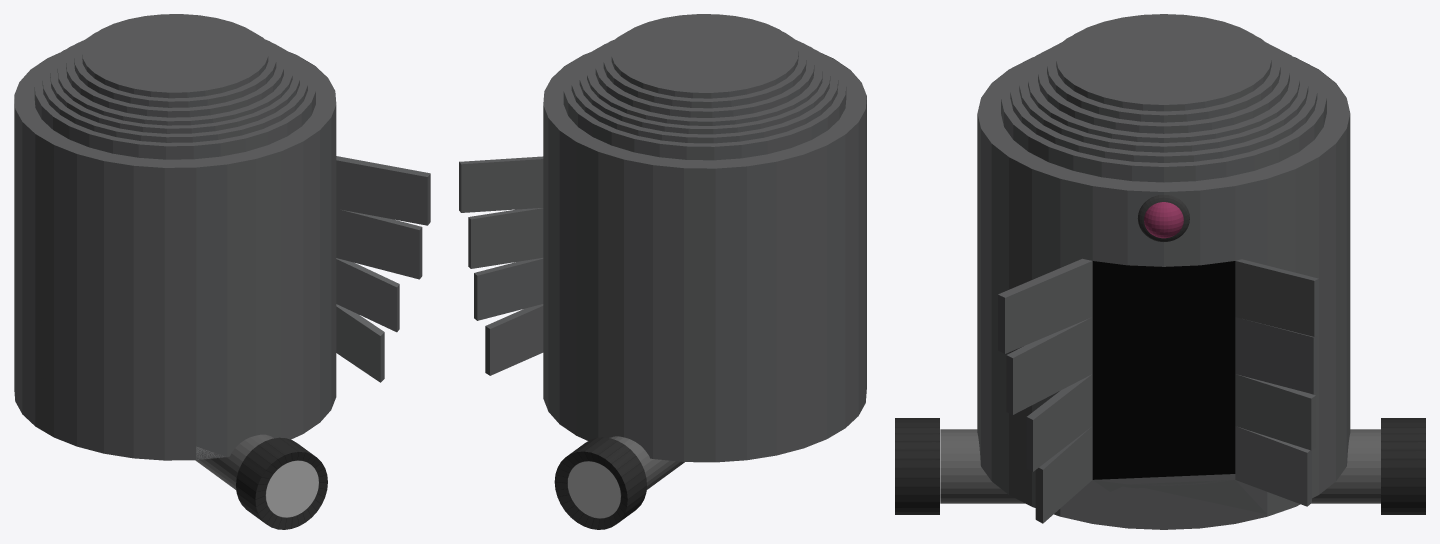
Rendered from RoboSeguridad.fbx.
The picture shows the model from 3 angles, left to right: view 1: azimuth 30°, elevation 25°; view 2: azimuth 150°, elevation 25°; view 3: azimuth 270°, elevation 25°; orthographic projection. The views are drawn at different scales.
Parts seen in each view (by area): view 1: Cilindro.001, Cilindro.002, Cilindro; view 2: Cilindro.001, Cilindro.003, Cilindro; view 3: Cilindro.001, Cilindro, Cilindro.002, Cilindro.003, Esfera, Esfera.001.
Boxes of the visible parts, x1=… form: Cilindro.001: x1=14, y1=14, x2=430, y2=460; Cilindro.002: x1=236, y1=437, x2=327, y2=529; Cilindro: x1=195, y1=434, x2=273, y2=489; Cilindro.001: x1=459, y1=14, x2=866, y2=462; Cilindro.003: x1=554, y1=437, x2=646, y2=529; Cilindro: x1=609, y1=436, x2=684, y2=489; Cilindro.001: x1=977, y1=14, x2=1350, y2=529; Cilindro: x1=940, y1=429, x2=1380, y2=503; Cilindro.002: x1=895, y1=418, x2=939, y2=514; Cilindro.003: x1=1381, y1=418, x2=1425, y2=514; Esfera: x1=1144, y1=202, x2=1183, y2=238; Esfera.001: x1=1137, y1=195, x2=1189, y2=241.
Bounding box in the file's own units: 584 × 667 × 712.
